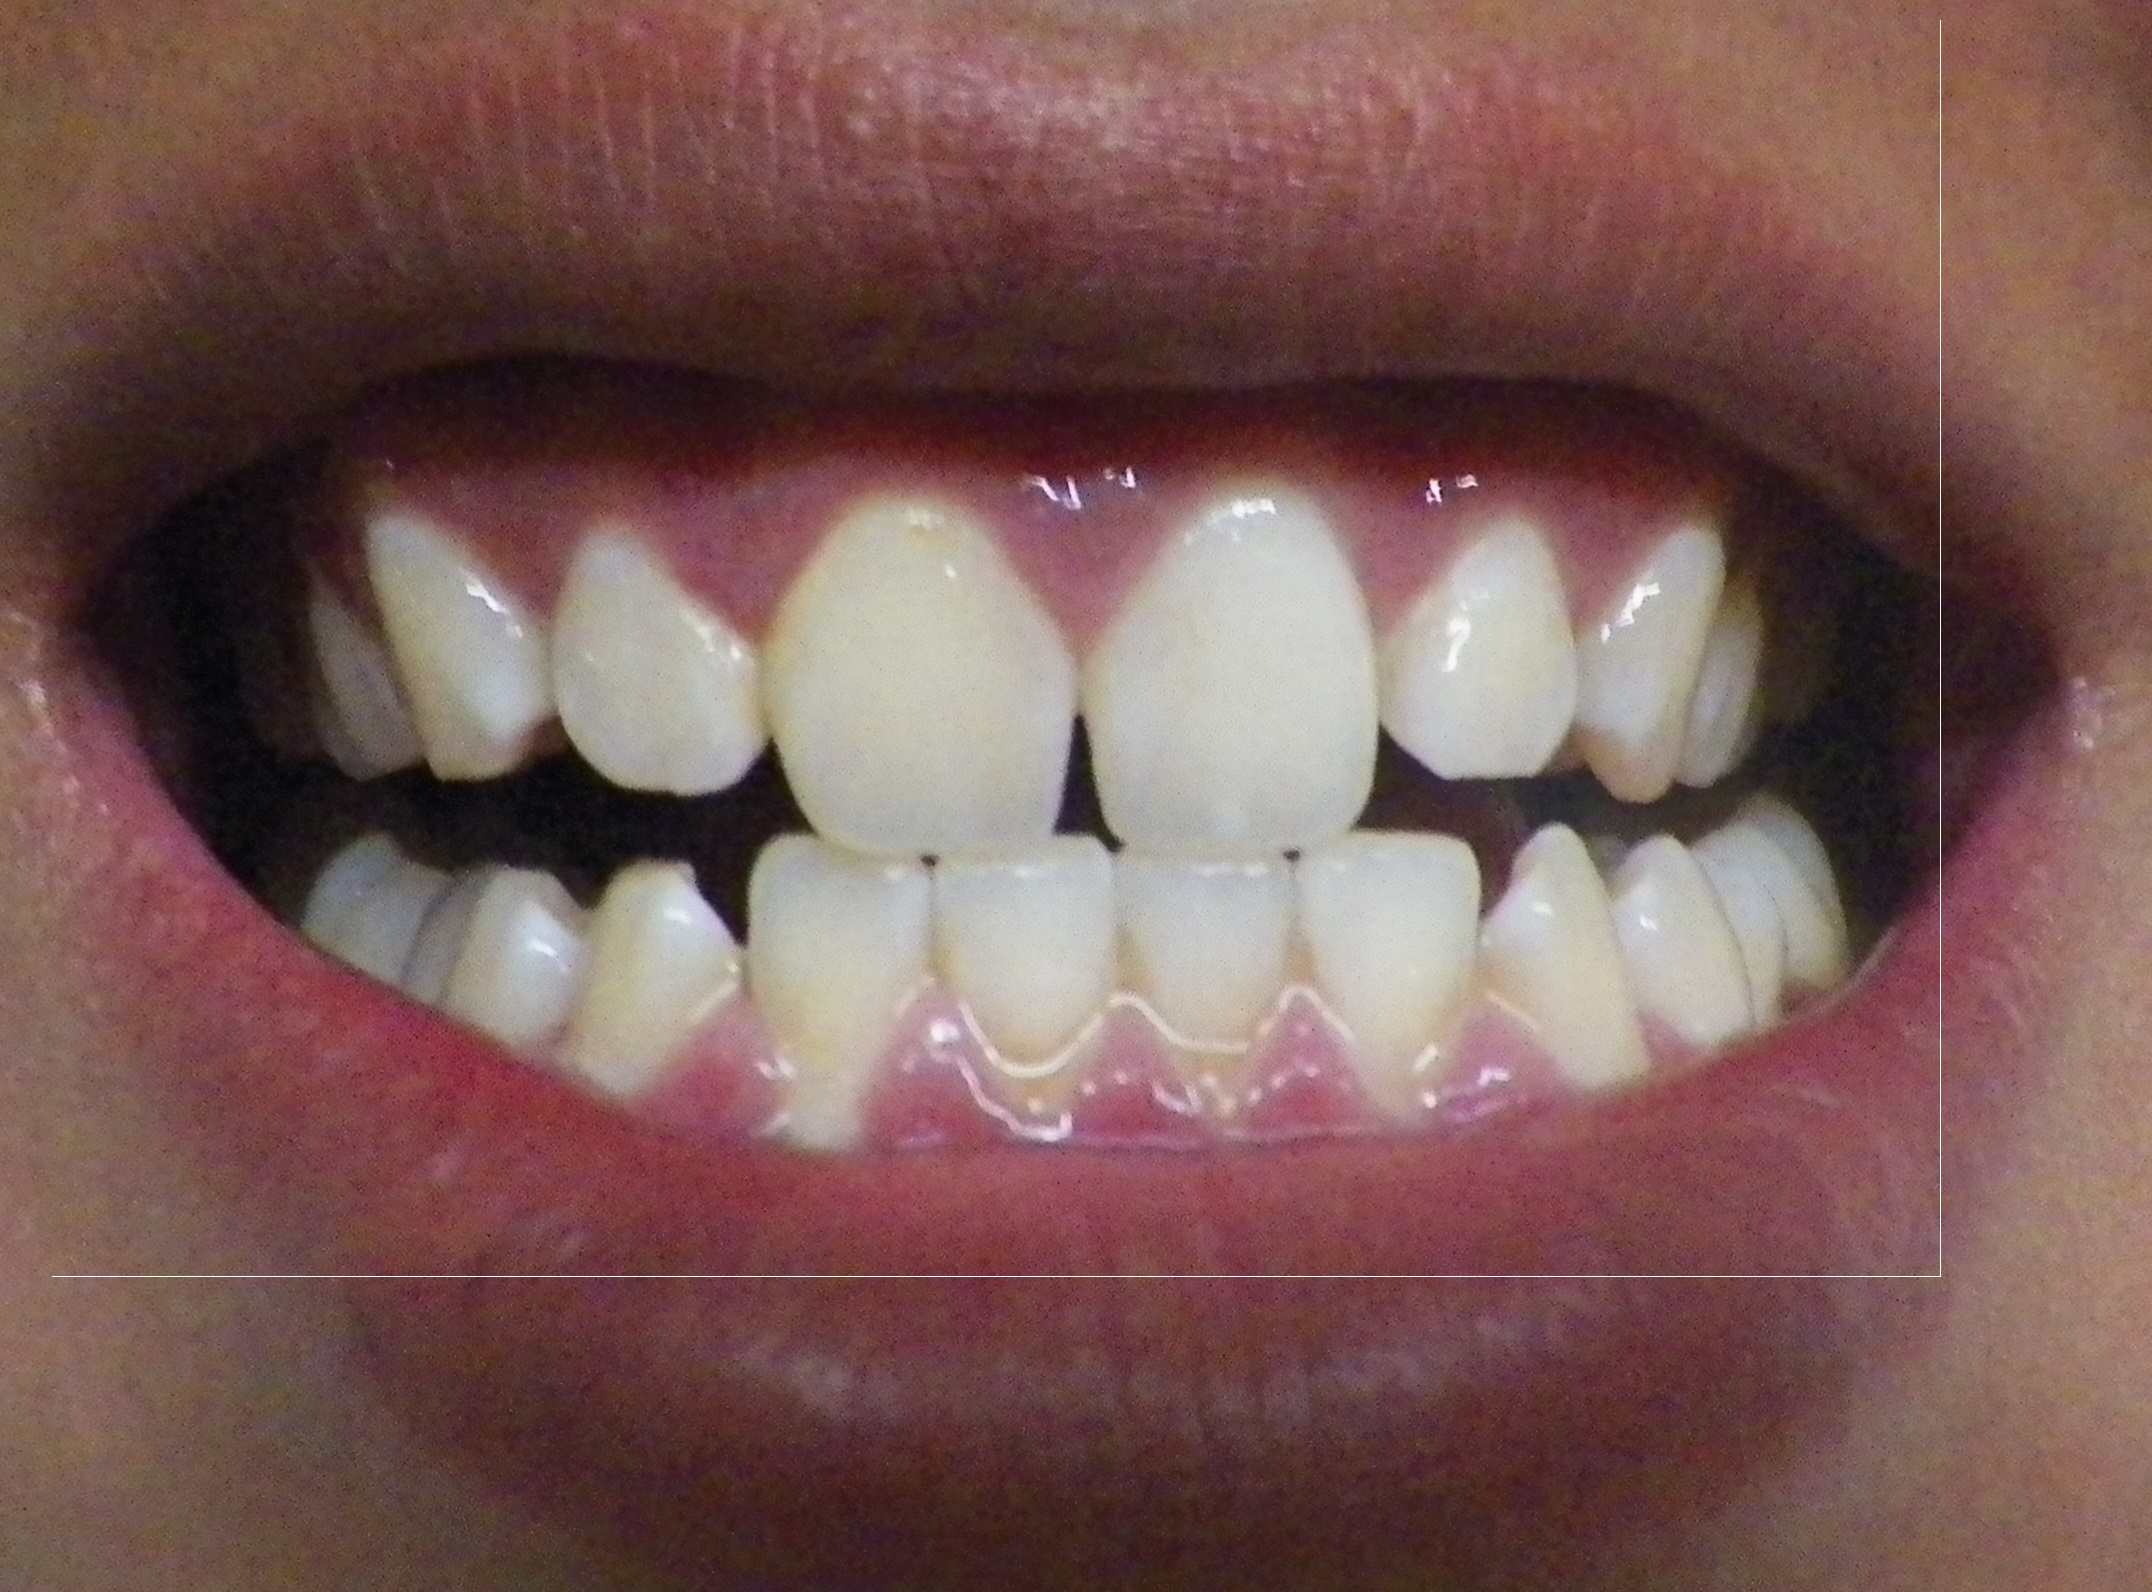boca: (256, 483, 1856, 1069)
